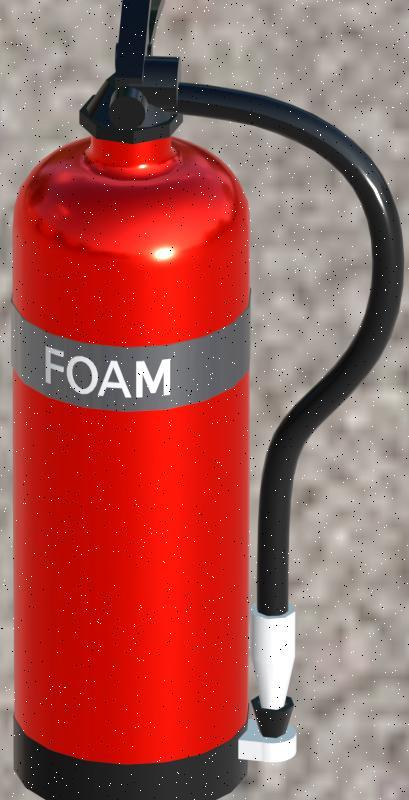Fire Extinguisher: (16, 2, 409, 800)
